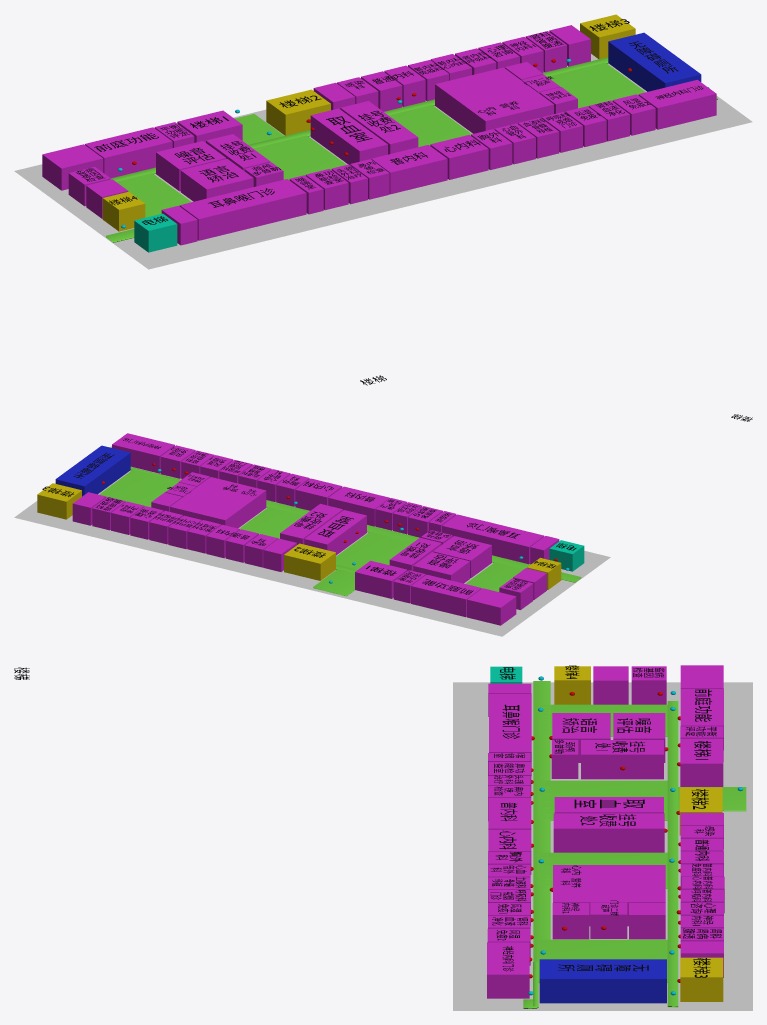
3 renders of one model, top to bottom at view 1: azimuth 30°, elevation 25°; view 2: azimuth 150°, elevation 25°; view 3: azimuth 270°, elevation 25°, orthographic. The views are drawn at different scales.
Parts seen in each view (by area): view 1: 平面, 立方体.012, 立方体.038, 立方体.023, 立方体.005, 立方体.043, 立方体.050, 立方体.007, 立方体.035, 立方体.031, 立方体.004, 立方体.027 (+40 smaller); view 2: 平面, 立方体.012, 立方体.038, 立方体.023, 立方体.043, 立方体.031, 立方体.005, 立方体.035, 立方体.027, 立方体.044, 立方体.050, 立方体.026 (+38 smaller); view 3: 平面, 立方体.023, 立方体.006, 立方体.012, 立方体.032, 立方体.033, 立方体.047, 立方体.035, 立方体.031, 立方体.038, 立方体.050, 立方体.026 (+38 smaller).
Boxes of the visible parts, x1,y1,x2,y2 form: 平面: [14, 54, 752, 269]; 立方体.012: [435, 67, 553, 133]; 立方体.038: [179, 179, 306, 240]; 立方体.023: [608, 32, 701, 91]; 立方体.005: [310, 108, 387, 164]; 立方体.043: [85, 127, 172, 178]; 立方体.050: [638, 79, 716, 129]; 立方体.007: [371, 145, 447, 194]; 立方体.035: [547, 62, 645, 108]; 立方体.031: [253, 135, 346, 180]; 立方体.004: [180, 159, 253, 201]; 立方体.027: [266, 89, 330, 135]; 平面: [14, 446, 610, 636]; 立方体.012: [170, 477, 266, 528]; 立方体.038: [442, 514, 544, 564]; 立方体.023: [55, 445, 130, 496]; 立方体.043: [411, 574, 481, 617]; 立方体.031: [336, 528, 417, 569]; 立方体.005: [304, 510, 366, 555]; 立方体.035: [99, 469, 175, 507]; 立方体.027: [284, 543, 335, 580]; 立方体.044: [467, 588, 516, 625]; 立方体.050: [112, 433, 174, 473]; 立方体.026: [355, 560, 407, 598]; 平面: [453, 682, 752, 1010]; 立方体.023: [539, 959, 666, 1003]; 立方体.006: [553, 813, 664, 852]; 立方体.012: [553, 865, 665, 926]; 立方体.032: [533, 681, 550, 983]; 立方体.033: [667, 701, 678, 1007]; 立方体.047: [581, 740, 663, 779]; 立方体.035: [537, 939, 667, 982]; 立方体.031: [538, 780, 667, 820]; 立方体.038: [489, 693, 531, 775]; 立方体.050: [487, 942, 529, 998]; 立方体.026: [680, 738, 723, 786].
Bounding box in the file's own units: 20.4 × 0.765 × 19.39.
